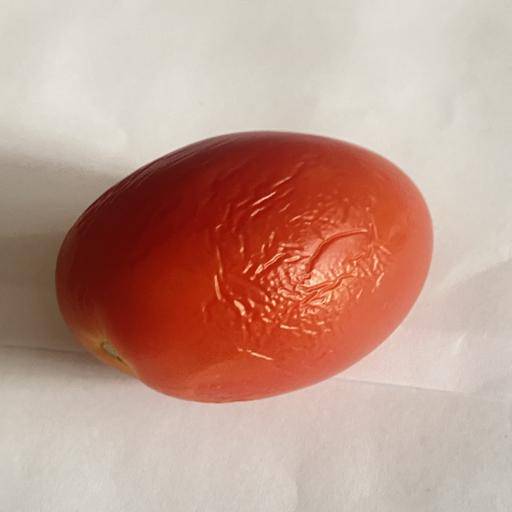spoiled: (56, 132, 432, 402)
